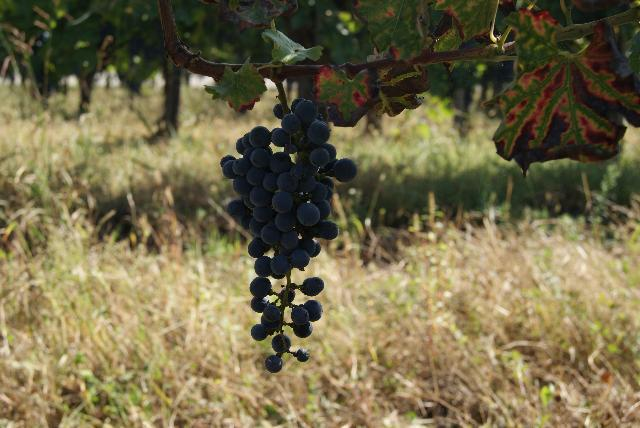grapes: (220, 99, 358, 372)
